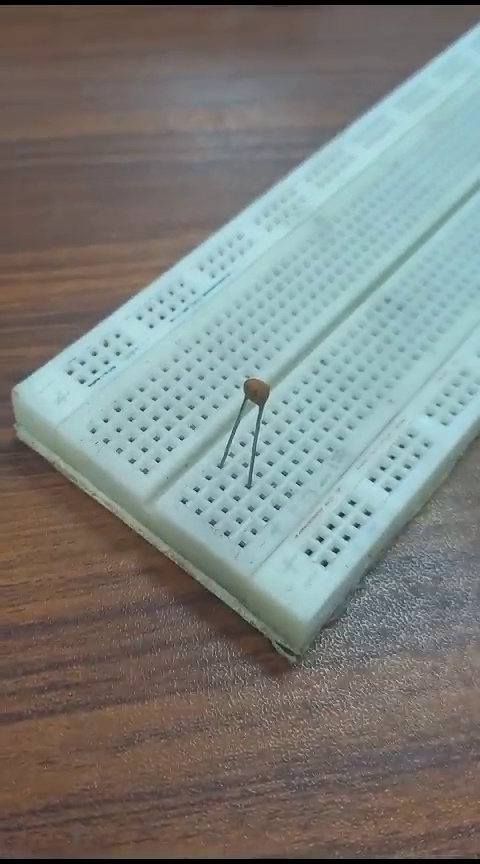ceramic capacitor: (222, 371, 274, 512)
